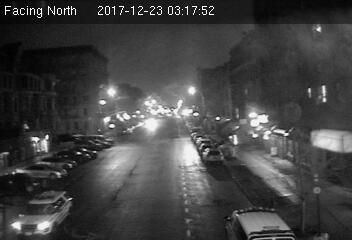car: (202, 145, 225, 165)
police: (9, 187, 75, 237), (224, 206, 295, 240)
